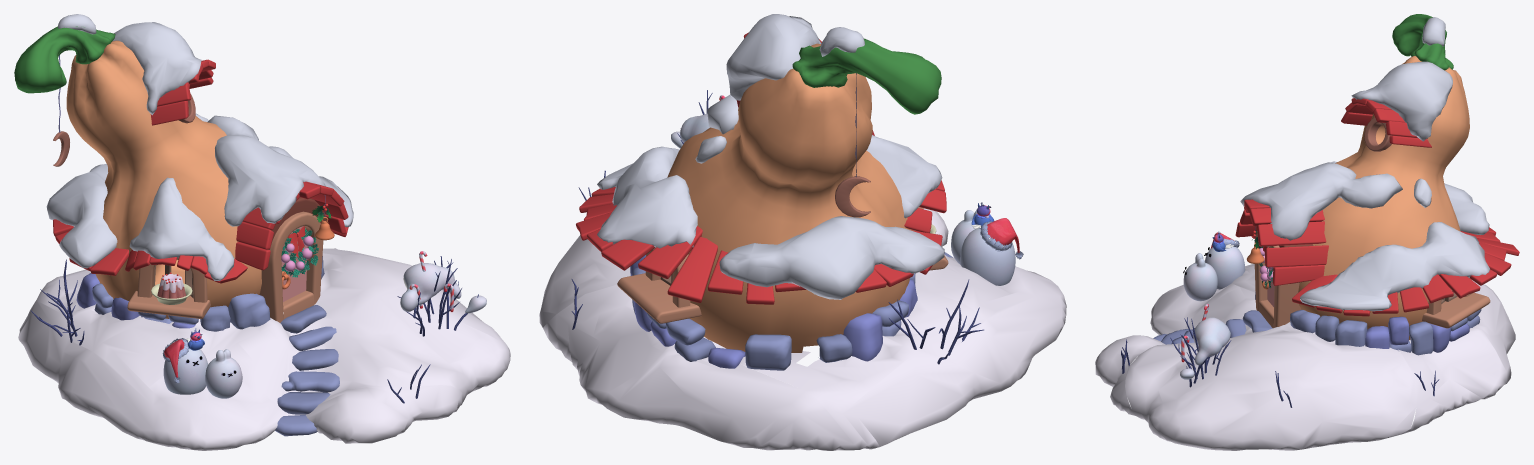
File: building-snowfall-space.glb
3 renders of one model, left to right at view 1: azimuth 30°, elevation 25°; view 2: azimuth 150°, elevation 25°; view 3: azimuth 270°, elevation 25°, orthographic. The views are drawn at different scales.
Parts seen in each view (by area): view 1: Ground_L, Snow_L_Base_0, pumpkin_L, StonesA_L, Tail_L, StonesB_L, Krysha8, Dver_Details_0.001, Krysha098, snowman, Krysha121, Zai2 (+11 smaller); view 2: Ground_L, pumpkin_L, Snow_L_Base_0, Krysha098, Tail_L, StonesC_L, StonesA_L, casement window011, Zai2, StonesB_L, Vetkar070, Moon (+3 smaller); view 3: Ground_L, Snow_L_Base_0, pumpkin_L, Krysha8, Krysha098, StonesA_L, Krysha121, Tail_L, StonesC_L, StonesB_L, snowman, Dver_Details_0.001 (+5 smaller).
Part boxes in pixels (<box>): Ground_L: <box>18,248,510,450</box>; Snow_L_Base_0: <box>46,14,353,280</box>; pumpkin_L: <box>66,40,261,318</box>; StonesA_L: <box>92,263,339,436</box>; Tail_L: <box>14,26,115,93</box>; StonesB_L: <box>89,256,338,414</box>; Krysha8: <box>235,181,348,270</box>; Dver_Details_0.001: <box>259,211,323,322</box>; Krysha098: <box>53,219,348,283</box>; snowman: <box>400,263,486,313</box>; Krysha121: <box>150,59,215,125</box>; Zai2: <box>163,348,207,394</box>; Ground_L: <box>539,208,1066,450</box>; pumpkin_L: <box>667,43,914,352</box>; Snow_L_Base_0: <box>597,14,944,299</box>; Krysha098: <box>576,180,946,304</box>; Tail_L: <box>792,38,941,114</box>; StonesC_L: <box>630,255,917,368</box>; StonesA_L: <box>632,252,952,370</box>; casement window011: <box>617,273,701,323</box>; Zai2: <box>960,228,1015,285</box>; StonesB_L: <box>647,273,915,362</box>; Vetkar070: <box>888,279,983,364</box>; Moon: <box>835,176,870,217</box>; Ground_L: <box>1095,264,1515,450</box>; Snow_L_Base_0: <box>1240,17,1490,311</box>; pumpkin_L: <box>1298,56,1469,340</box>; Krysha8: <box>1235,199,1328,285</box>; Krysha098: <box>1251,227,1519,316</box>; StonesA_L: <box>1153,292,1481,355</box>; Krysha121: <box>1341,98,1431,147</box>; Tail_L: <box>1392,14,1453,70</box>; StonesC_L: <box>1365,316,1469,352</box>; StonesB_L: <box>1161,310,1480,352</box>; snowman: <box>1180,317,1230,379</box>; Dver_Details_0.001: <box>1254,233,1301,327</box>.
Size of the model in its own units: 12.14 by 9.88 by 12.76.
25 materials, 2 textured.
